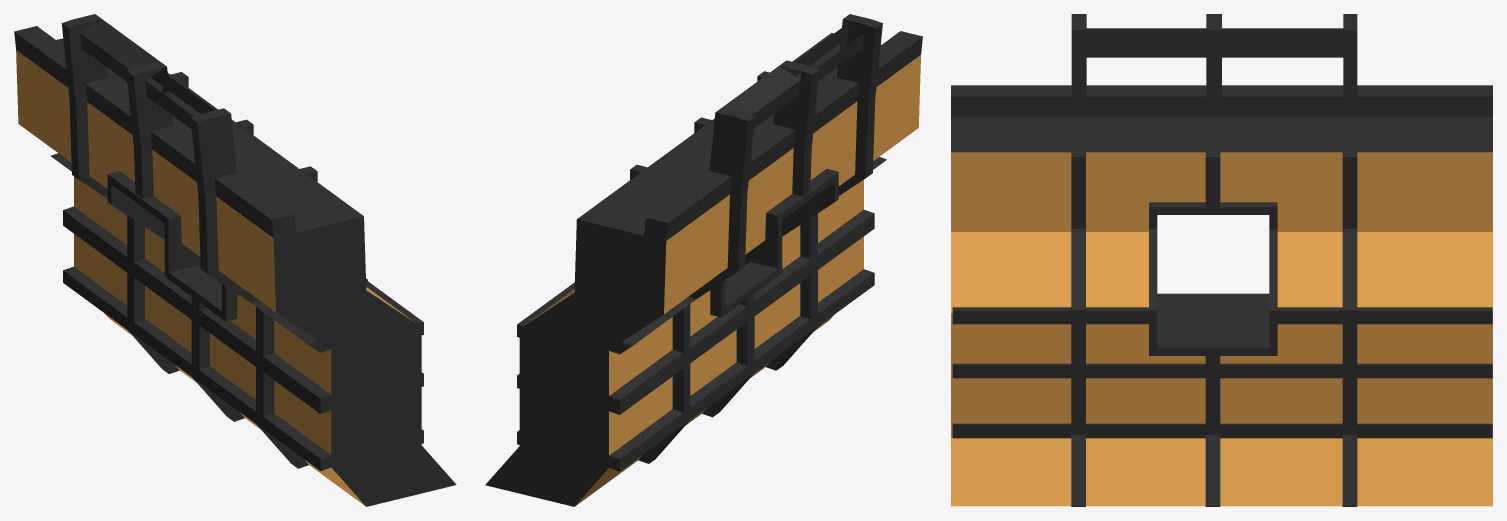
The model's file is Ship_holed.fbx.
3 renders of one model, left to right at view 1: azimuth 30°, elevation 25°; view 2: azimuth 150°, elevation 25°; view 3: azimuth 270°, elevation 25°, orthographic. The views are drawn at different scales.
Visible parts, largest first — view 1: Cube; view 2: Cube; view 3: Cube.
Part boxes in pixels (x1,y1,x2,y2): Cube: [14, 14, 456, 506]; Cube: [485, 14, 922, 506]; Cube: [951, 14, 1492, 506].
Size of the model in its own units: 1698 by 2963 by 3712.
